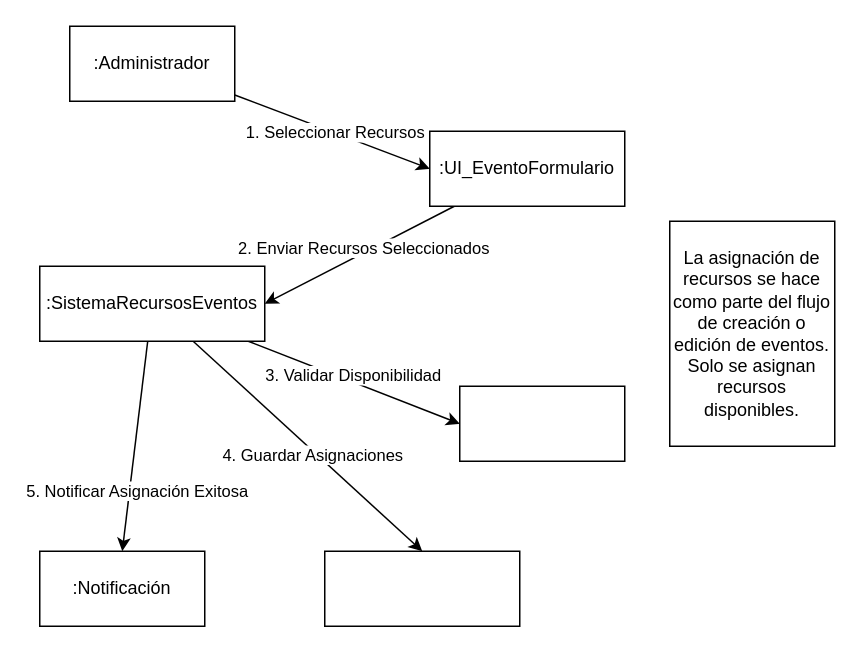
The diagram is 861 pixels wide and 653 high, and some of its shapes have lost their labels. The shapes that lost their labels are listed below. From the top down, each one's box as (x1, y1, x2, y2) in pixels, then its label:
(458, 385, 625, 461): :BD_Recursos
(323, 550, 520, 626): :BD_RecursosEventos
